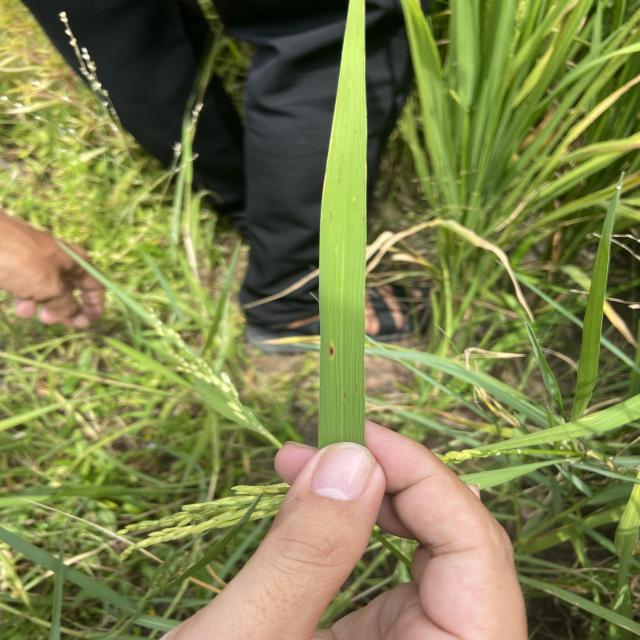Dao on: (329, 346, 335, 358)
